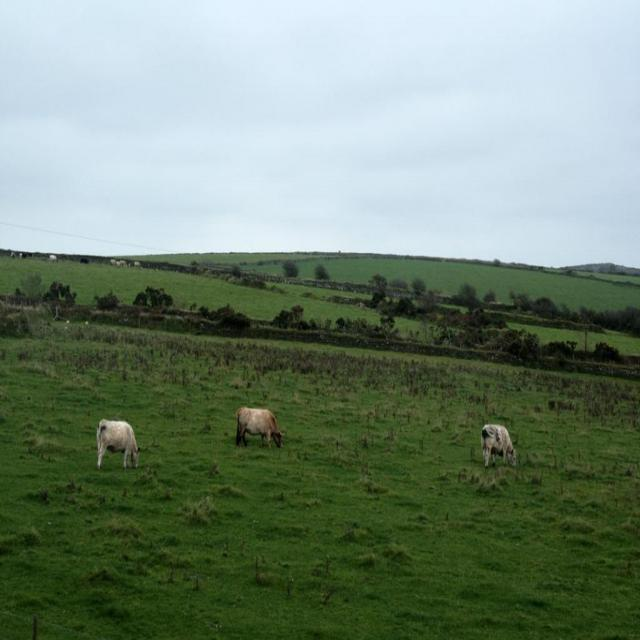Sheep: (476, 418, 519, 481)
